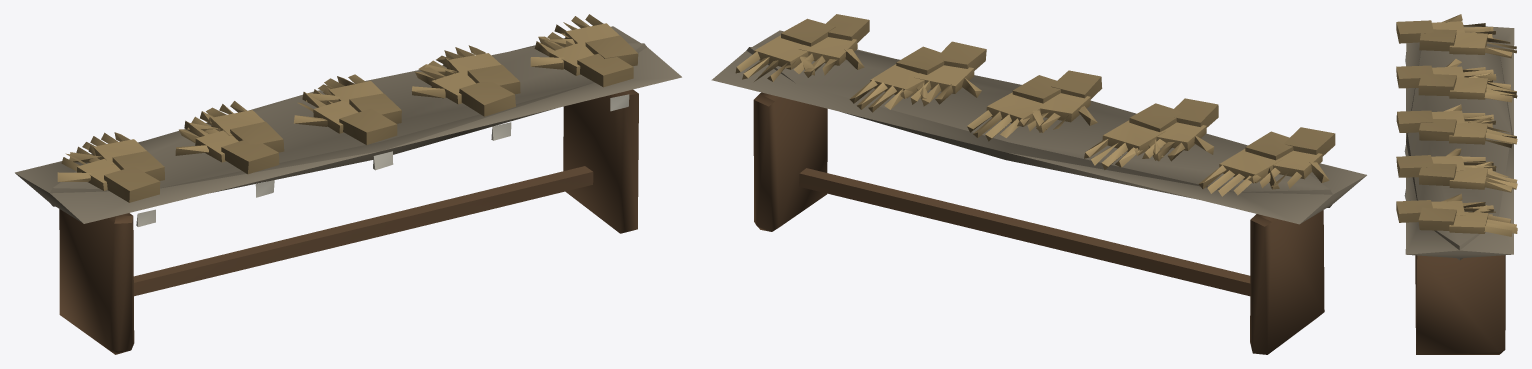
File: glove_bench_a_lod1.glb
The picture shows the model from 3 angles, left to right: view 1: azimuth 30°, elevation 25°; view 2: azimuth 150°, elevation 25°; view 3: azimuth 270°, elevation 25°; orthographic projection. The views are drawn at different scales.
Visible parts, largest first — view 1: Surface.001; view 2: Surface.001; view 3: Surface.001.
Part boxes in pixels (x1=…): Surface.001: x1=15, y1=14, x2=681, y2=354; Surface.001: x1=711, y1=14, x2=1366, y2=354; Surface.001: x1=1396, y1=14, x2=1517, y2=354.
Bounding box in the file's own units: 1.9 × 0.5358 × 0.4304.
